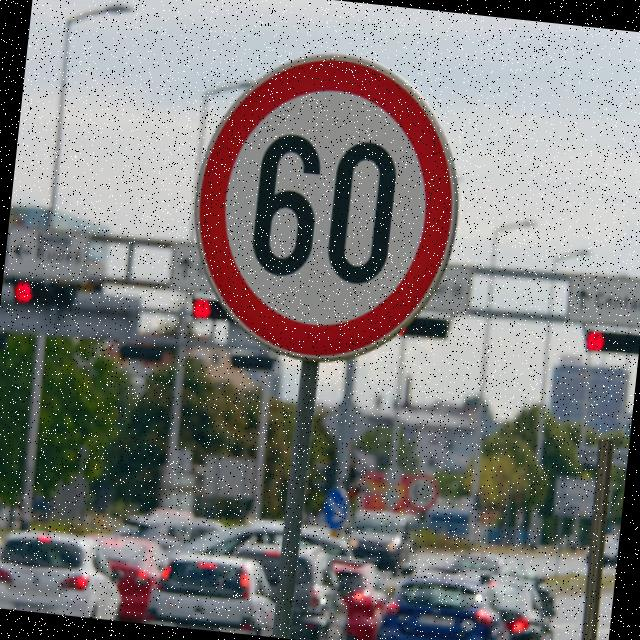speed_limit_60: (167, 34, 486, 386)
